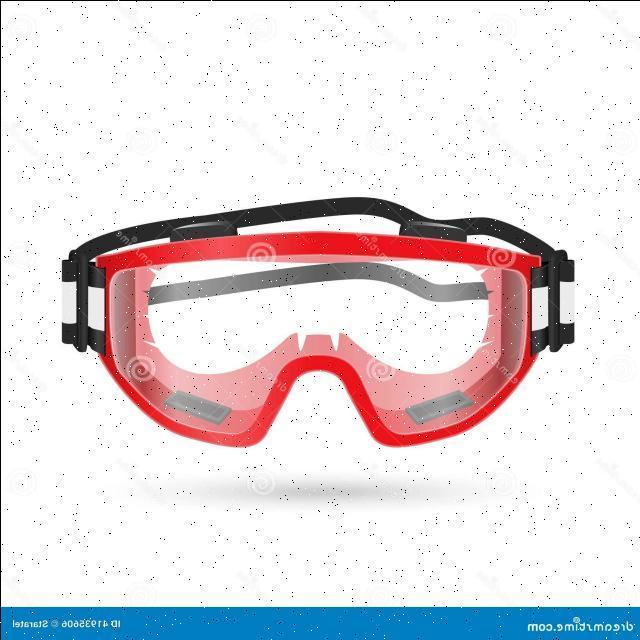Goggles: (36, 182, 581, 469)
